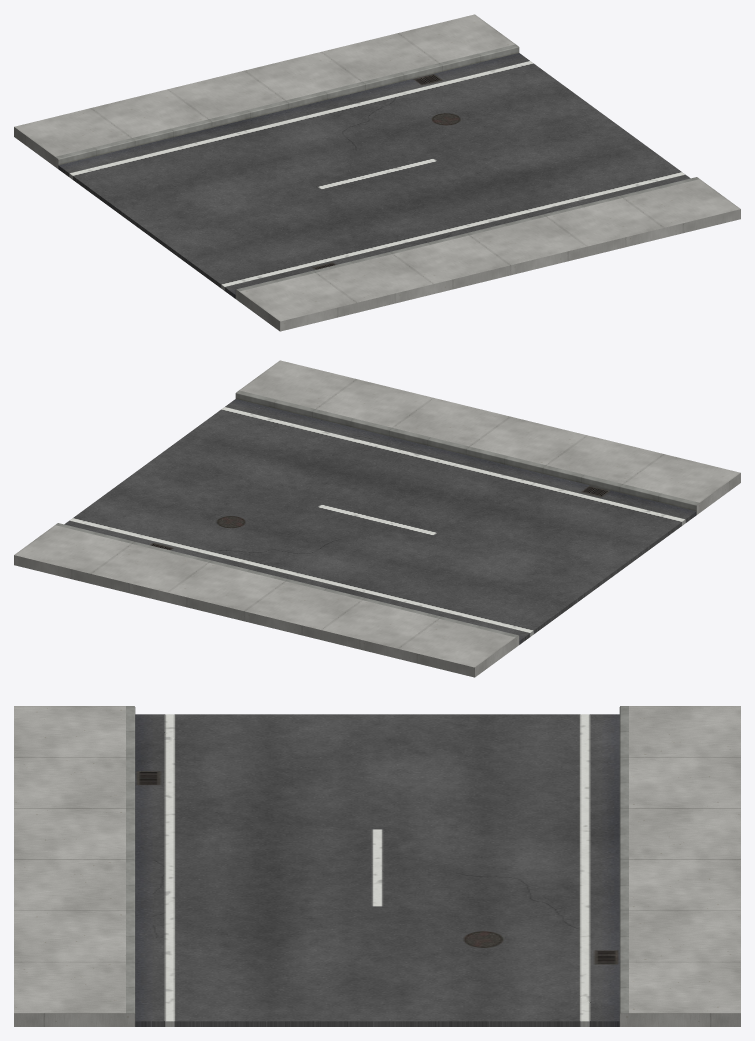
The model's file is two-lane-straight-road-with-markings.glb.
3 views of the same model, one above another, from view 1: azimuth 30°, elevation 25°; view 2: azimuth 150°, elevation 25°; view 3: azimuth 270°, elevation 25° (orthographic). The views are drawn at different scales.
Parts seen in each view (by area): view 1: Asphalt carriageway, Concrete curbs and sidewalks; view 2: Asphalt carriageway, Concrete curbs and sidewalks; view 3: Asphalt carriageway, Concrete curbs and sidewalks.
Part boxes in pixels (bbox=[...]): Asphalt carriageway: bbox=[58, 53, 690, 298]; Concrete curbs and sidewalks: bbox=[14, 14, 740, 331]; Asphalt carriageway: bbox=[64, 399, 696, 644]; Concrete curbs and sidewalks: bbox=[14, 360, 740, 677]; Asphalt carriageway: bbox=[135, 714, 619, 1026]; Concrete curbs and sidewalks: bbox=[14, 706, 740, 1026].
Size of the model in its own units: 12 by 0.25 by 12.
Materials: 3 (3 with a texture image).
